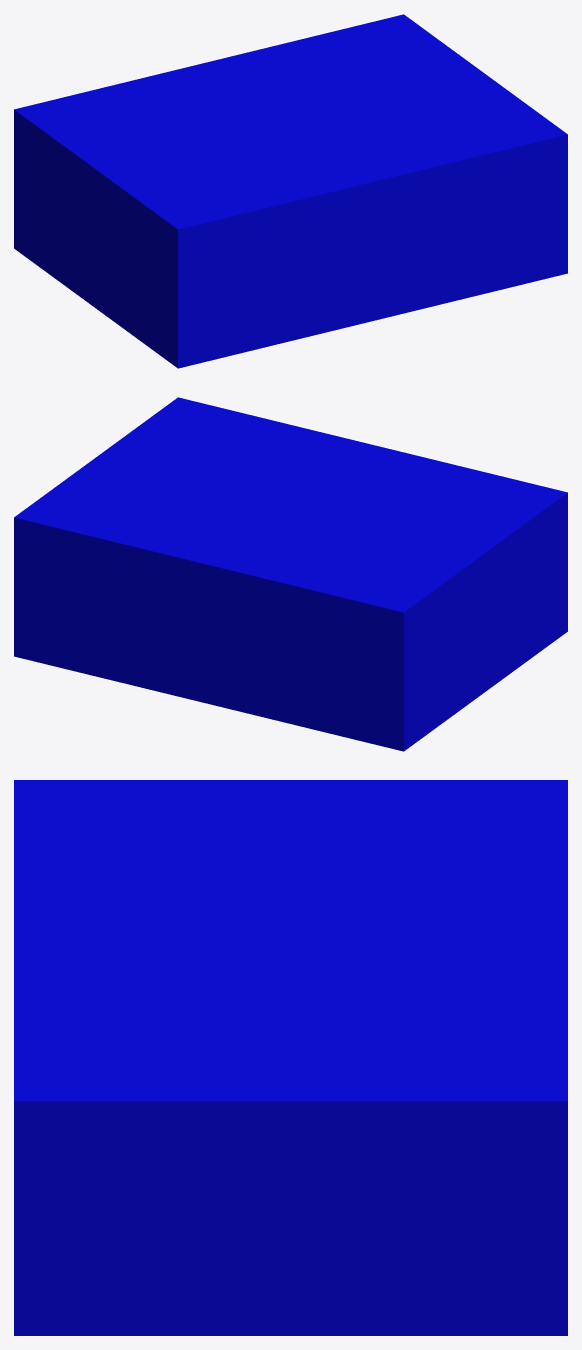
3 renders of one model, top to bottom at view 1: azimuth 30°, elevation 25°; view 2: azimuth 150°, elevation 25°; view 3: azimuth 270°, elevation 25°, orthographic. The views are drawn at different scales.
Parts seen in each view (by area): view 1: pCube1; view 2: pCube1; view 3: pCube1.
Boxes of the visible parts, left/top/right/bottom form: pCube1: left=14, top=14, right=567, bottom=368; pCube1: left=14, top=397, right=567, bottom=751; pCube1: left=14, top=780, right=567, bottom=1335.
Size of the model in its own units: 11.07 by 3.77 by 8.07.
